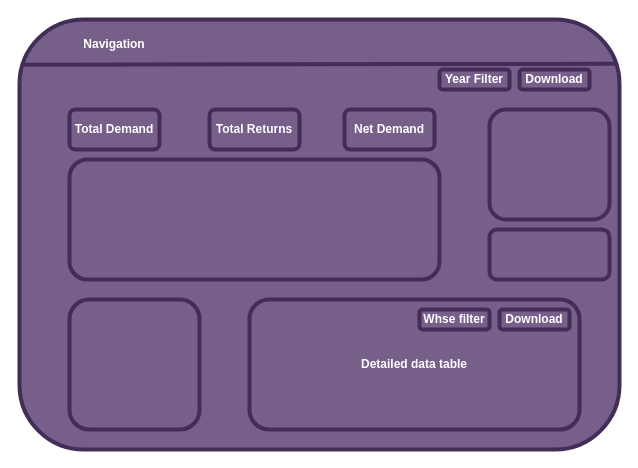
The diagram is 638 pixels wide and 468 high, and some of its shapes have lost their labels. Each missing label, with the centre of its shape:
"Demand chart - bar chart" belongs at point 254,219.
"Highest grossing categories (stats card 2)" belongs at point 134,364.
"Highlights (stats card 1)" belongs at point 549,164.
"Warehouse(whse) gauge chart" belongs at point 549,254.
